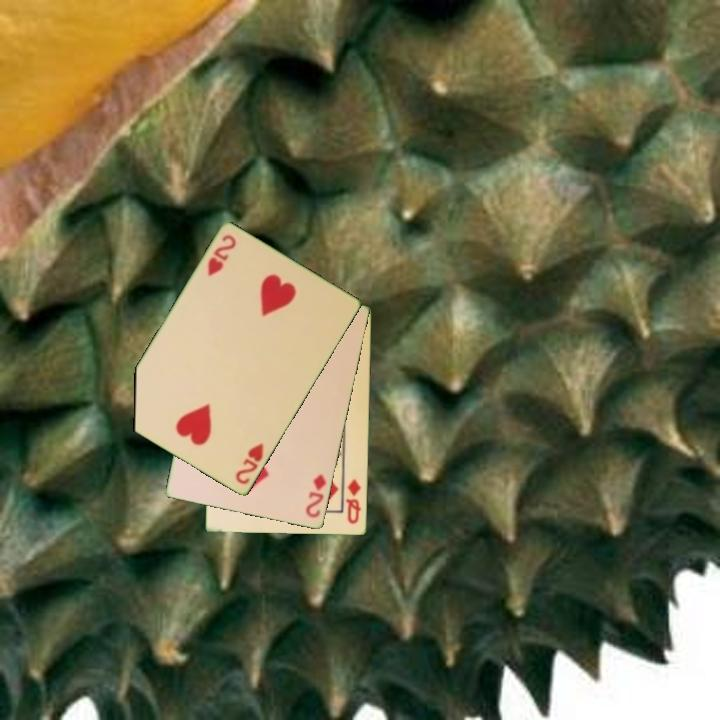2d: (302, 471, 330, 521)
2h: (204, 231, 239, 280), (232, 440, 267, 488)
Qd: (343, 475, 364, 527)
